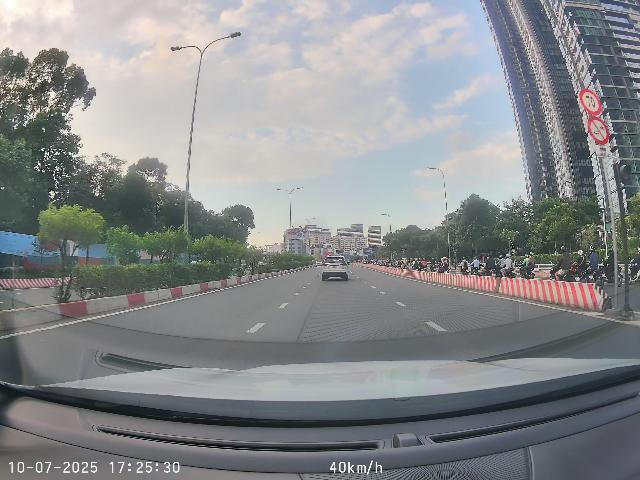127-toc-do-toi-da-70: (579, 88, 601, 115)
